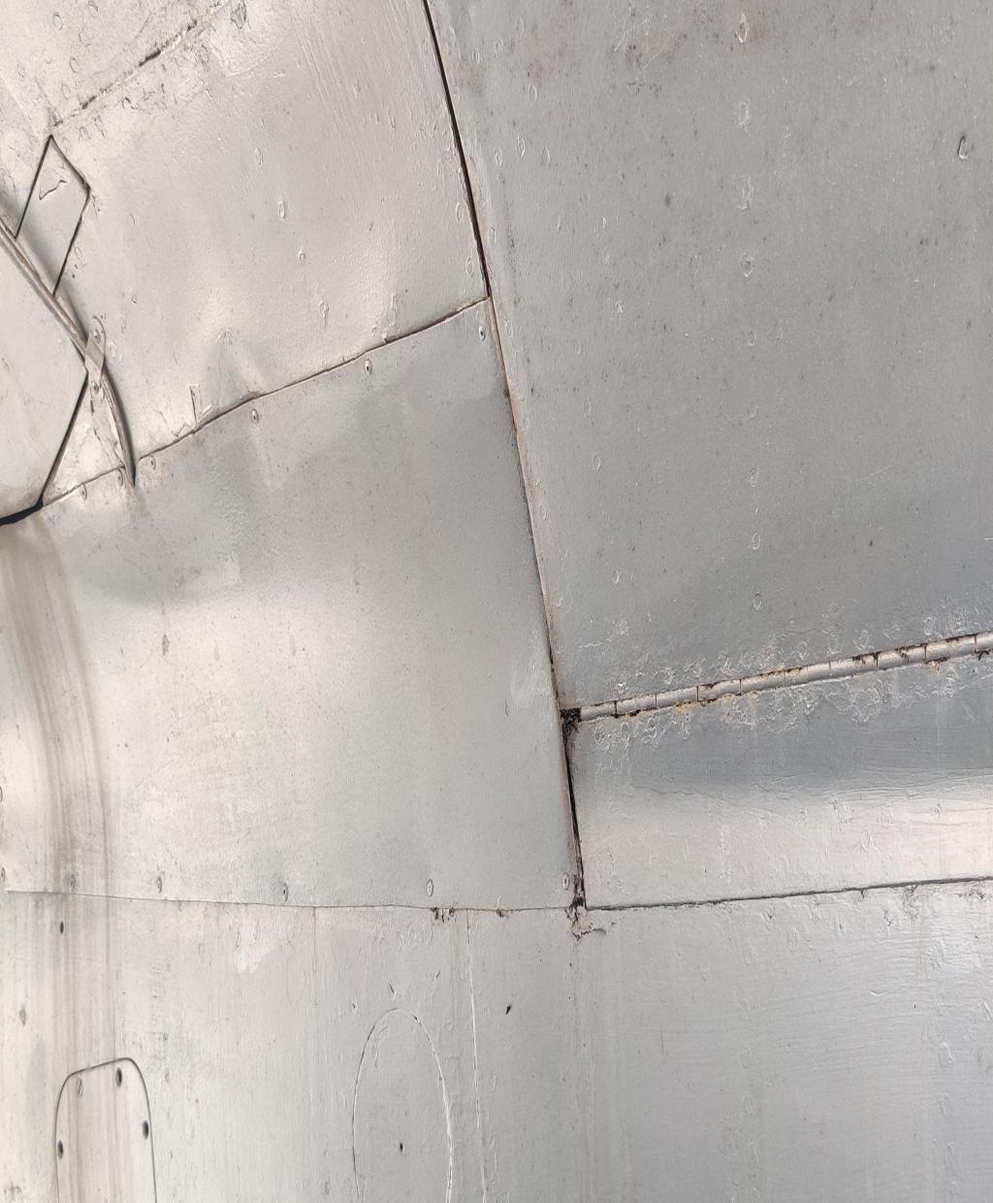dent: (35, 329, 256, 660)
